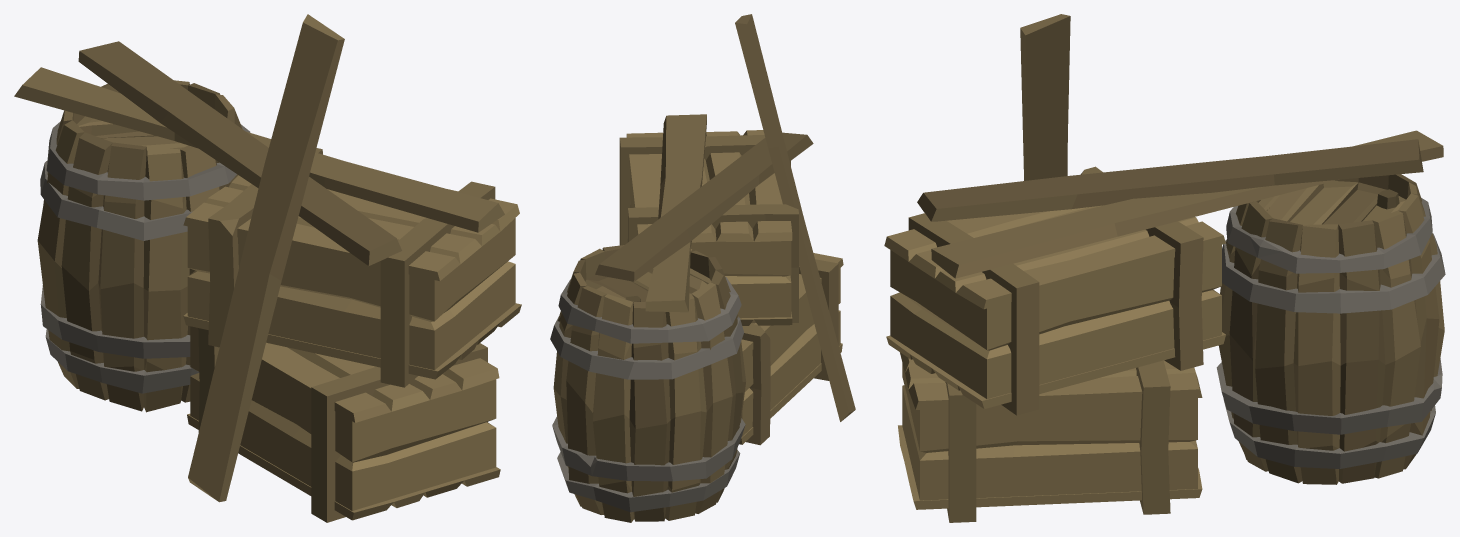
File: Stack_8.fbx
3 renders of one model, left to right at view 1: azimuth 30°, elevation 25°; view 2: azimuth 150°, elevation 25°; view 3: azimuth 270°, elevation 25°, orthographic. The views are drawn at different scales.
Visible parts, largest first — view 1: Stack_8; view 2: Stack_8; view 3: Stack_8.
Boxes of the visible parts, x1=… form: Stack_8: x1=14, y1=14, x2=521, y2=522; Stack_8: x1=550, y1=14, x2=855, y2=522; Stack_8: x1=884, y1=14, x2=1445, y2=522.
Size of the model in its own units: 93.54 by 136 by 152.
